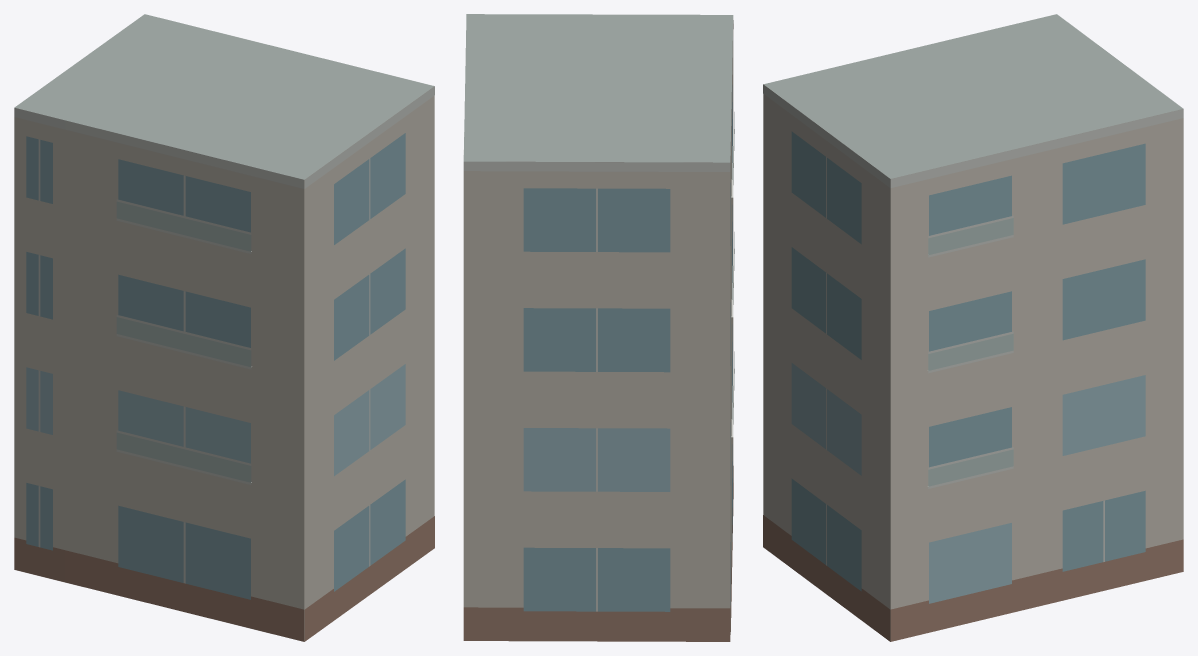
Rendered from residential-96ec3321-2b61-4fe2-b16d-ca0cca3d4c62.glb.
3 views of the same model, side by side, from view 1: azimuth 30°, elevation 25°; view 2: azimuth 150°, elevation 25°; view 3: azimuth 270°, elevation 25° (orthographic). The views are drawn at different scales.
Visible parts, largest first — view 1: residential-96ec3321-2b61-4fe2-b16d-ca0cca3d4c62.tmp; view 2: residential-96ec3321-2b61-4fe2-b16d-ca0cca3d4c62.tmp; view 3: residential-96ec3321-2b61-4fe2-b16d-ca0cca3d4c62.tmp.
Boxes of the visible parts, x1,y1,x2,y2 form: residential-96ec3321-2b61-4fe2-b16d-ca0cca3d4c62.tmp: (14,14,434,641); residential-96ec3321-2b61-4fe2-b16d-ca0cca3d4c62.tmp: (463,14,734,641); residential-96ec3321-2b61-4fe2-b16d-ca0cca3d4c62.tmp: (763,14,1183,641).
Size of the model in its own units: 9.33 by 12.2 by 10.05.
